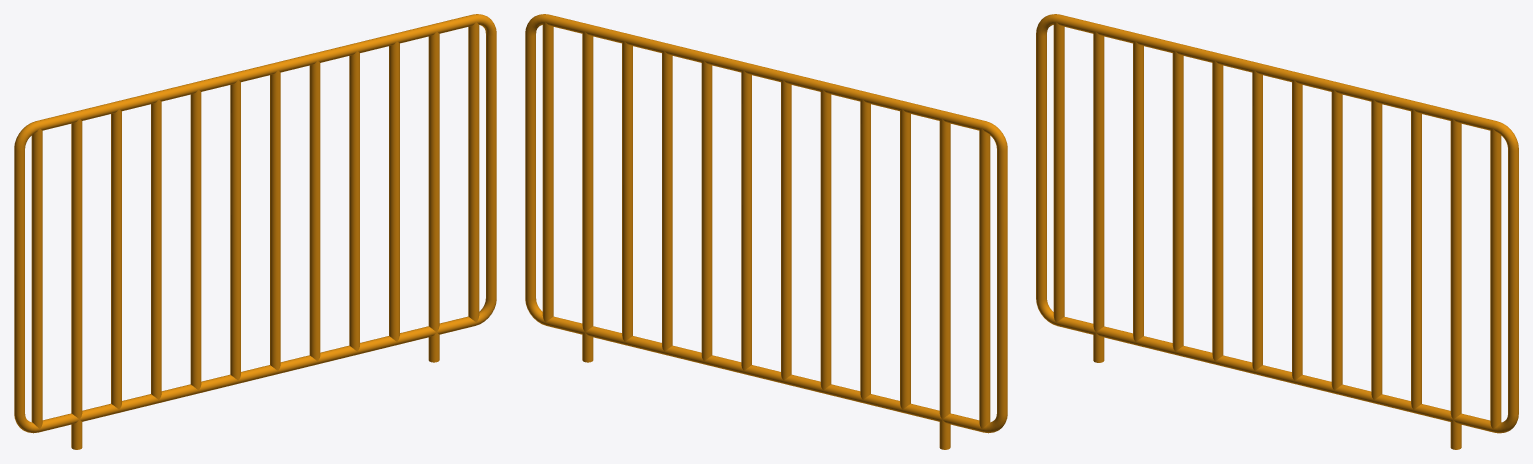
Rendered from People Control Barrier.fbx.
3 renders of one model, left to right at view 1: azimuth 30°, elevation 25°; view 2: azimuth 150°, elevation 25°; view 3: azimuth 330°, elevation 25°, orthographic.
Visible parts, largest first — view 1: Line001; view 2: Line001; view 3: Line001.
Part boxes in pixels (x1,y1,x2,y2): Line001: (14,14,496,449); Line001: (525,14,1007,449); Line001: (1036,14,1518,449).
Bounding box in the file's own units: 1530 × 1020 × 30.
